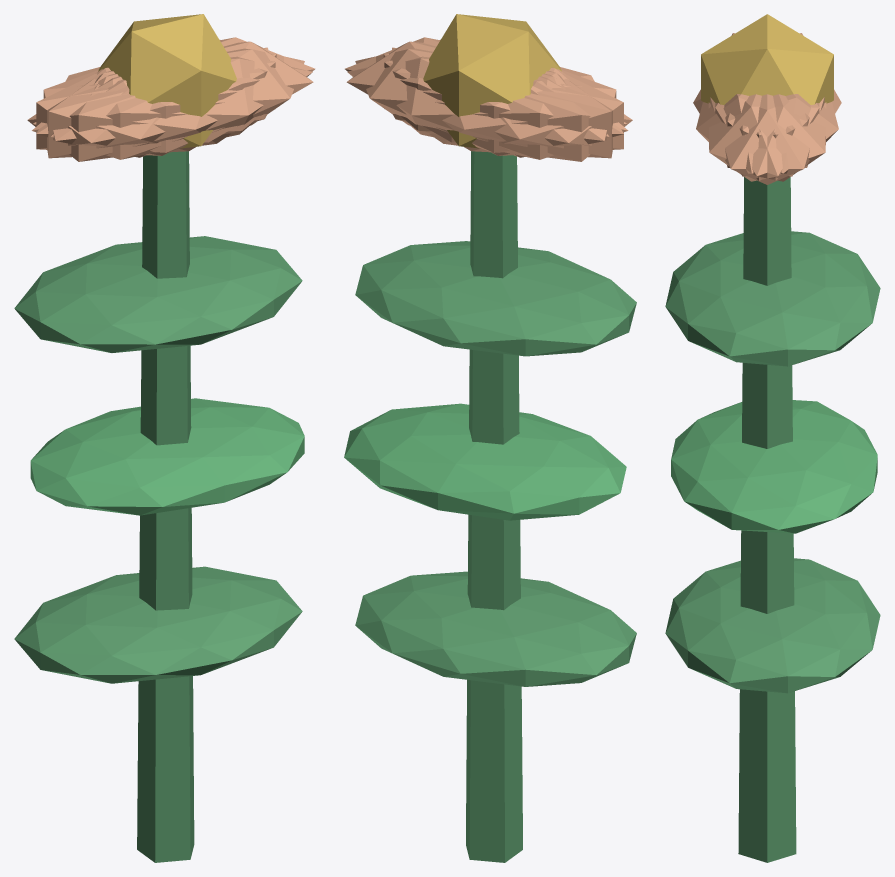
The model's file is polyscias-guilfoylei.glb.
3 renders of one model, left to right at view 1: azimuth 30°, elevation 25°; view 2: azimuth 150°, elevation 25°; view 3: azimuth 270°, elevation 25°, orthographic.
Visible parts, largest first — view 1: stem, leaf2, leaf0, leaf1, center, petal1, petal6, petal2, petal5, petal7, petal0, petal4 (+2 smaller); view 2: stem, leaf1, leaf2, leaf0, center, petal8, petal3, petal7, petal4, petal2, petal0, petal5 (+2 smaller); view 3: stem, leaf2, leaf1, leaf0, center, petal0, petal4, petal5, petal1, petal8.
Boxes of the visible parts, box(x1,y1,x2,y2) form: stem: box(137, 151, 194, 862); leaf2: box(14, 236, 302, 352); leaf0: box(14, 566, 302, 683); leaf1: box(30, 398, 304, 515); center: box(98, 14, 236, 148); petal1: box(32, 56, 312, 159); petal6: box(27, 69, 230, 161); petal2: box(47, 47, 268, 158); petal5: box(51, 48, 304, 152); petal7: box(36, 53, 276, 155); petal0: box(98, 41, 313, 142); petal4: box(33, 37, 315, 134); stem: box(466, 151, 522, 862); leaf1: box(344, 403, 626, 520); leaf2: box(355, 241, 636, 356); leaf0: box(355, 571, 636, 686); center: box(423, 14, 561, 148); petal8: box(347, 56, 628, 159); petal3: box(429, 69, 632, 161); petal7: box(392, 47, 612, 158); petal4: box(355, 48, 609, 152); petal2: box(383, 53, 623, 155); petal0: box(346, 41, 561, 142); petal5: box(345, 37, 626, 134); stem: box(738, 177, 796, 862); leaf2: box(665, 231, 880, 366); leaf1: box(671, 400, 877, 533); leaf0: box(665, 558, 880, 693); center: box(701, 14, 833, 104); petal0: box(710, 94, 824, 184); petal4: box(715, 94, 826, 181); petal5: box(708, 94, 819, 181); petal1: box(696, 94, 809, 173); petal8: box(725, 94, 838, 173).
Bounding box in the file's own units: 0.1452 × 0.4155 × 0.099.
